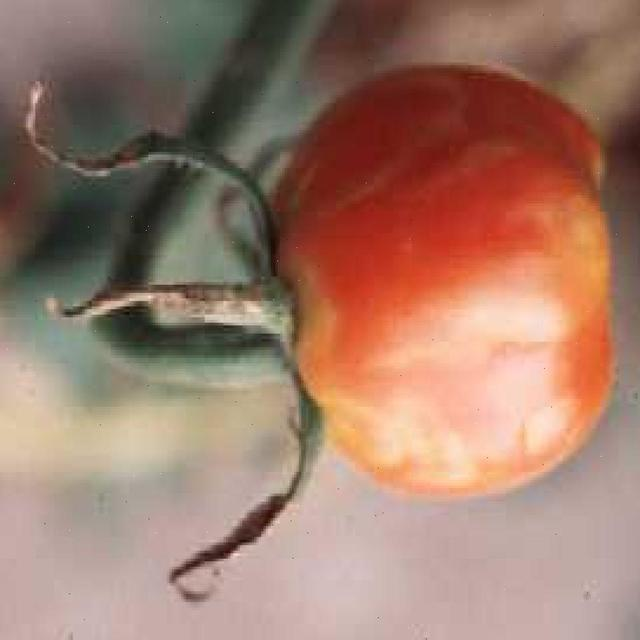Spotted wilt Virus Fruit: (169, 172, 565, 461)
